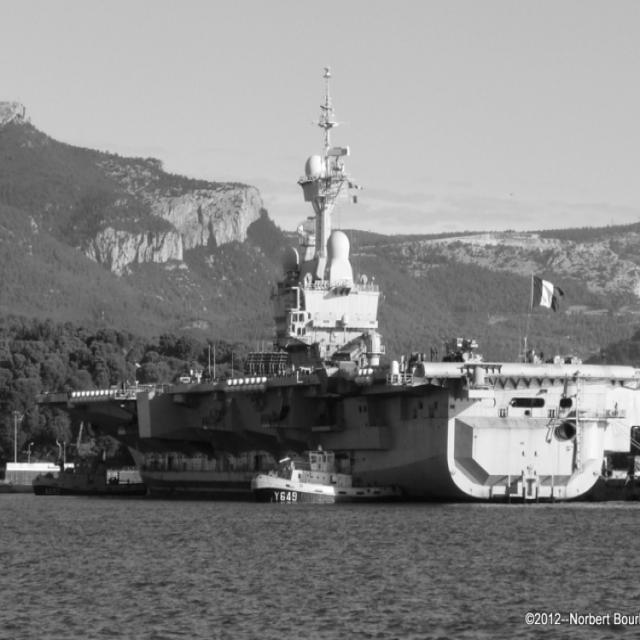Portanaves: (31, 51, 640, 512)
